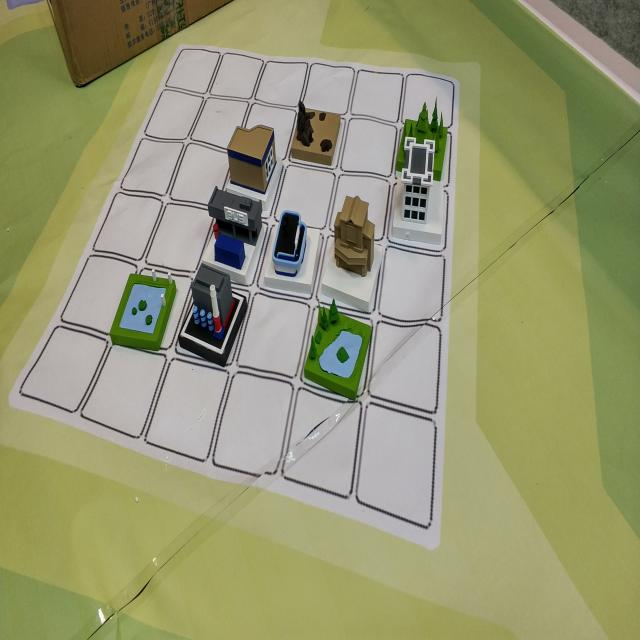bus_stop: (196, 186, 265, 284)
factory: (172, 258, 252, 386)
fish_pool: (105, 253, 182, 368)
forest: (390, 93, 459, 172)
gogo_shop: (255, 195, 327, 299)
research_build: (384, 136, 456, 250)
restaurant: (218, 108, 280, 213)
silicate_rock: (288, 91, 350, 184)
volunteer_center: (319, 180, 385, 309)
wet_land: (300, 286, 372, 412)
